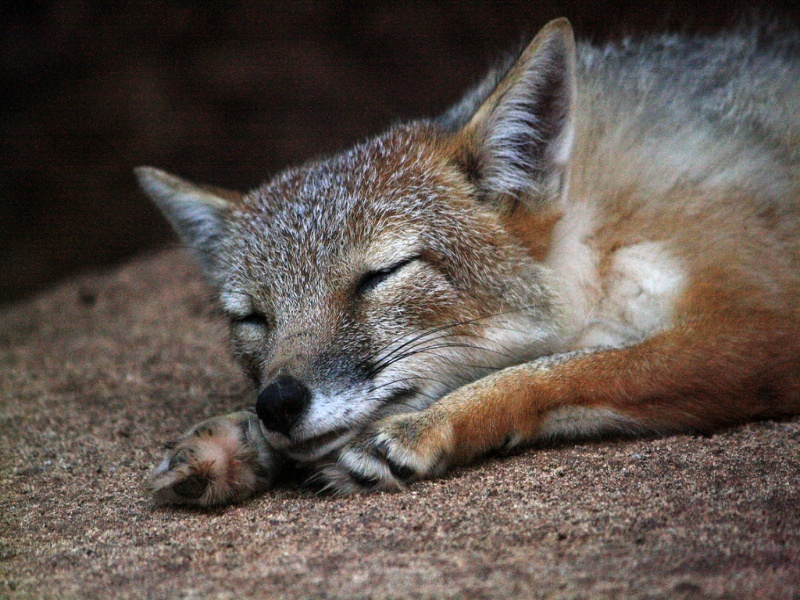fox: (138, 7, 800, 512)
